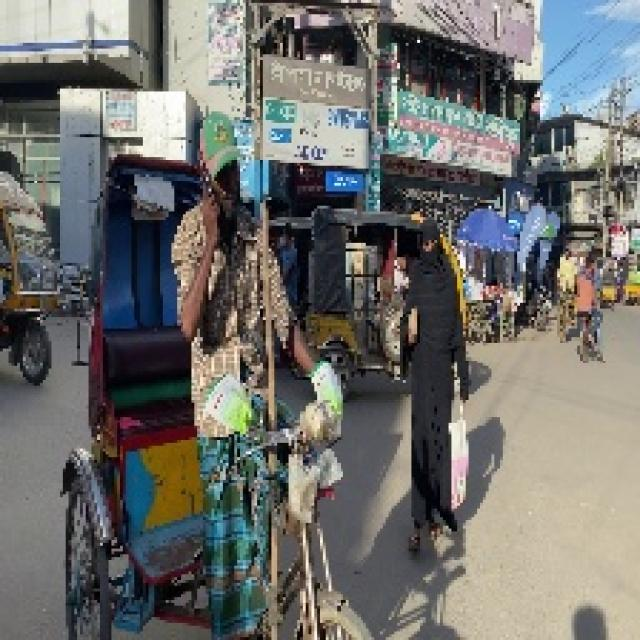rickshaw: (84, 138, 377, 635), (297, 201, 467, 372), (2, 164, 61, 386)
